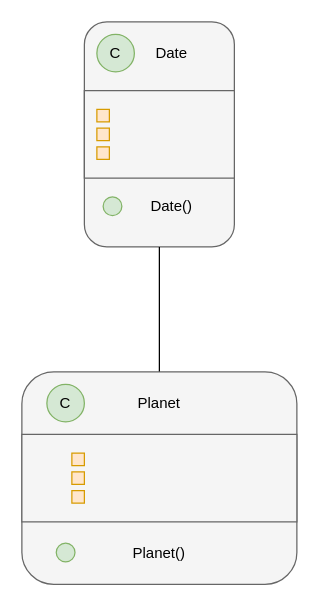
Some shapes in this 319 by 606 pixel diagram are drawn without their labels. Here are the shapes that lost their labels. From the top down, the centre of each, then its label:
At [158,133]: "day: int month: int year: int".
At [159,477]: "name: string date: Date radius: Double".
